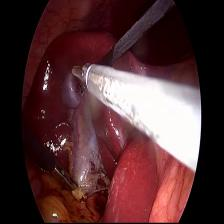Grasper: (54, 156, 86, 200)
Scissors: (69, 62, 92, 84)
